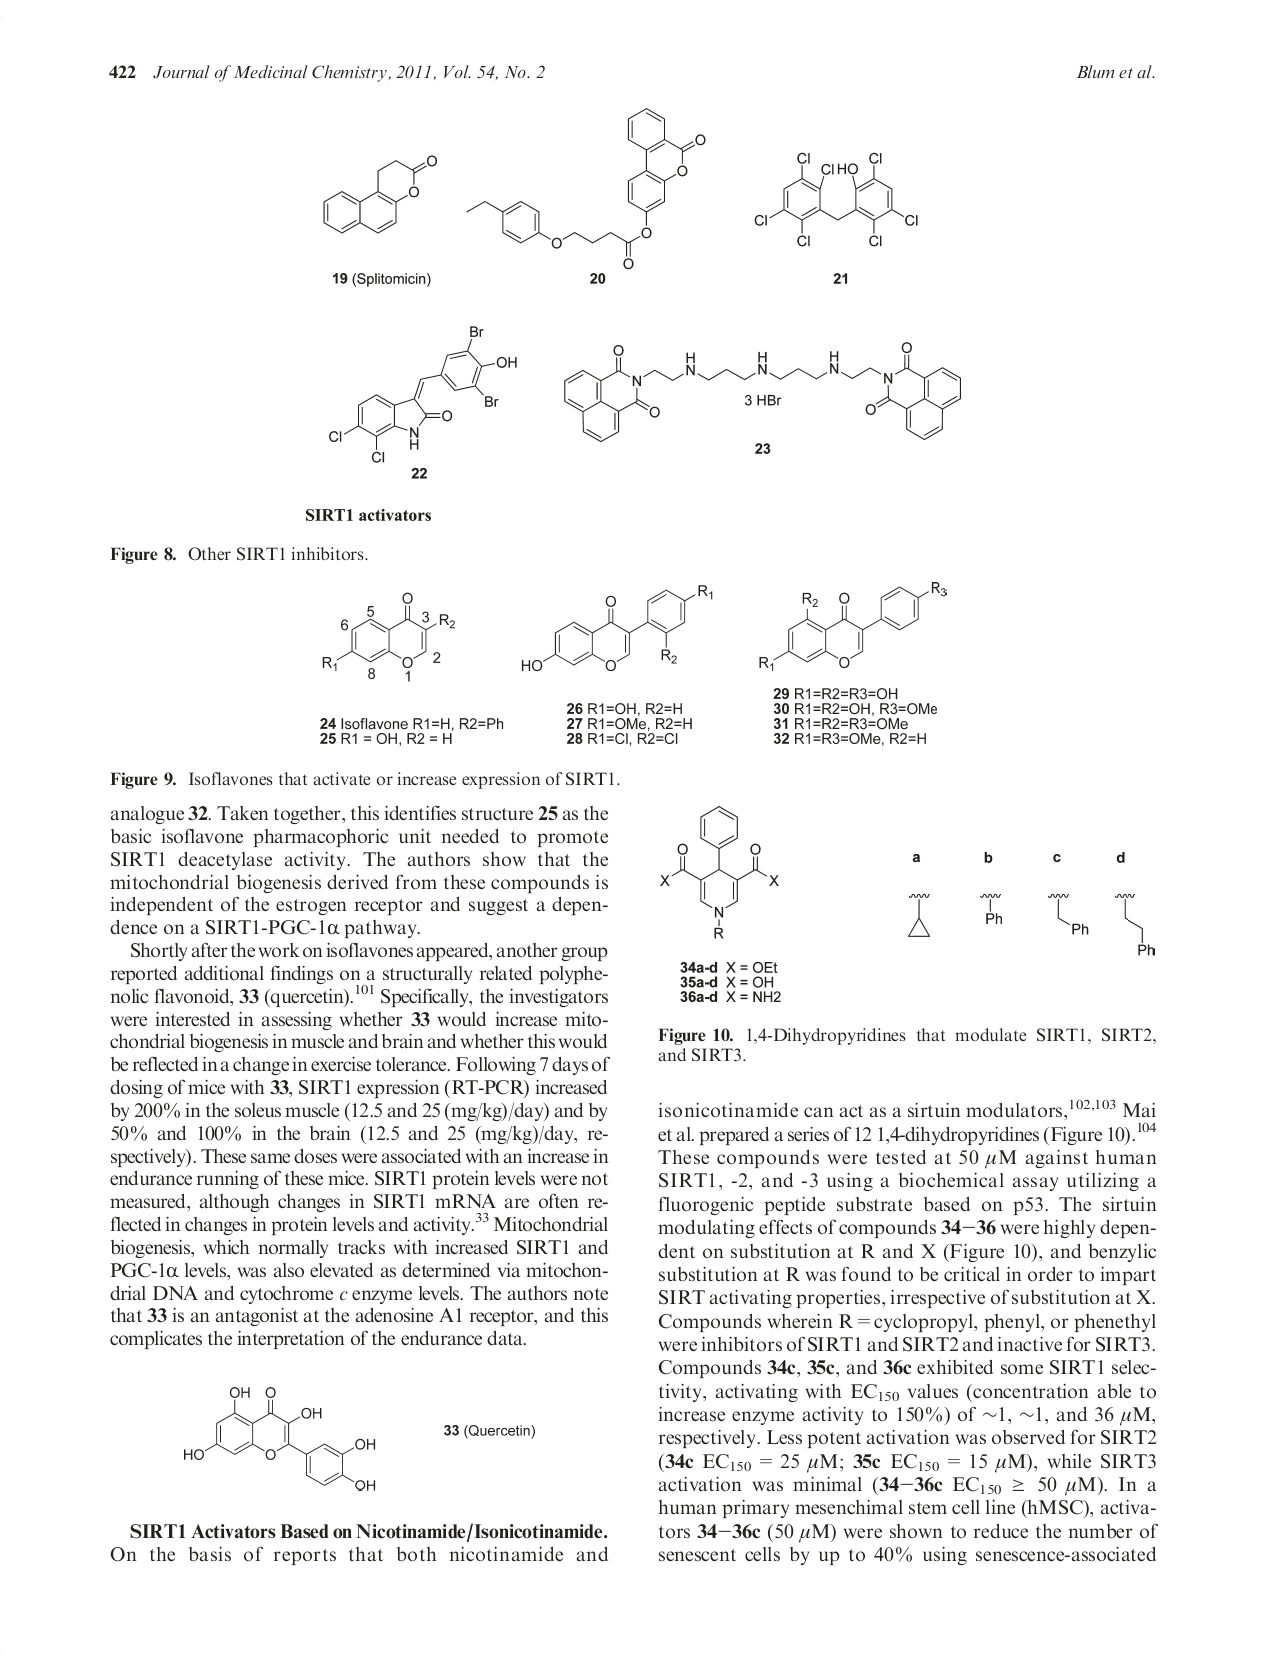exist_molecular: (461, 105, 707, 270), (561, 342, 965, 442), (327, 324, 521, 465), (180, 1383, 386, 1500), (519, 580, 715, 677), (757, 578, 949, 674), (750, 145, 923, 251), (653, 805, 785, 942), (318, 590, 460, 673), (316, 149, 438, 235), (1106, 888, 1160, 965), (1041, 886, 1092, 942), (899, 886, 940, 946), (976, 884, 1012, 931)
